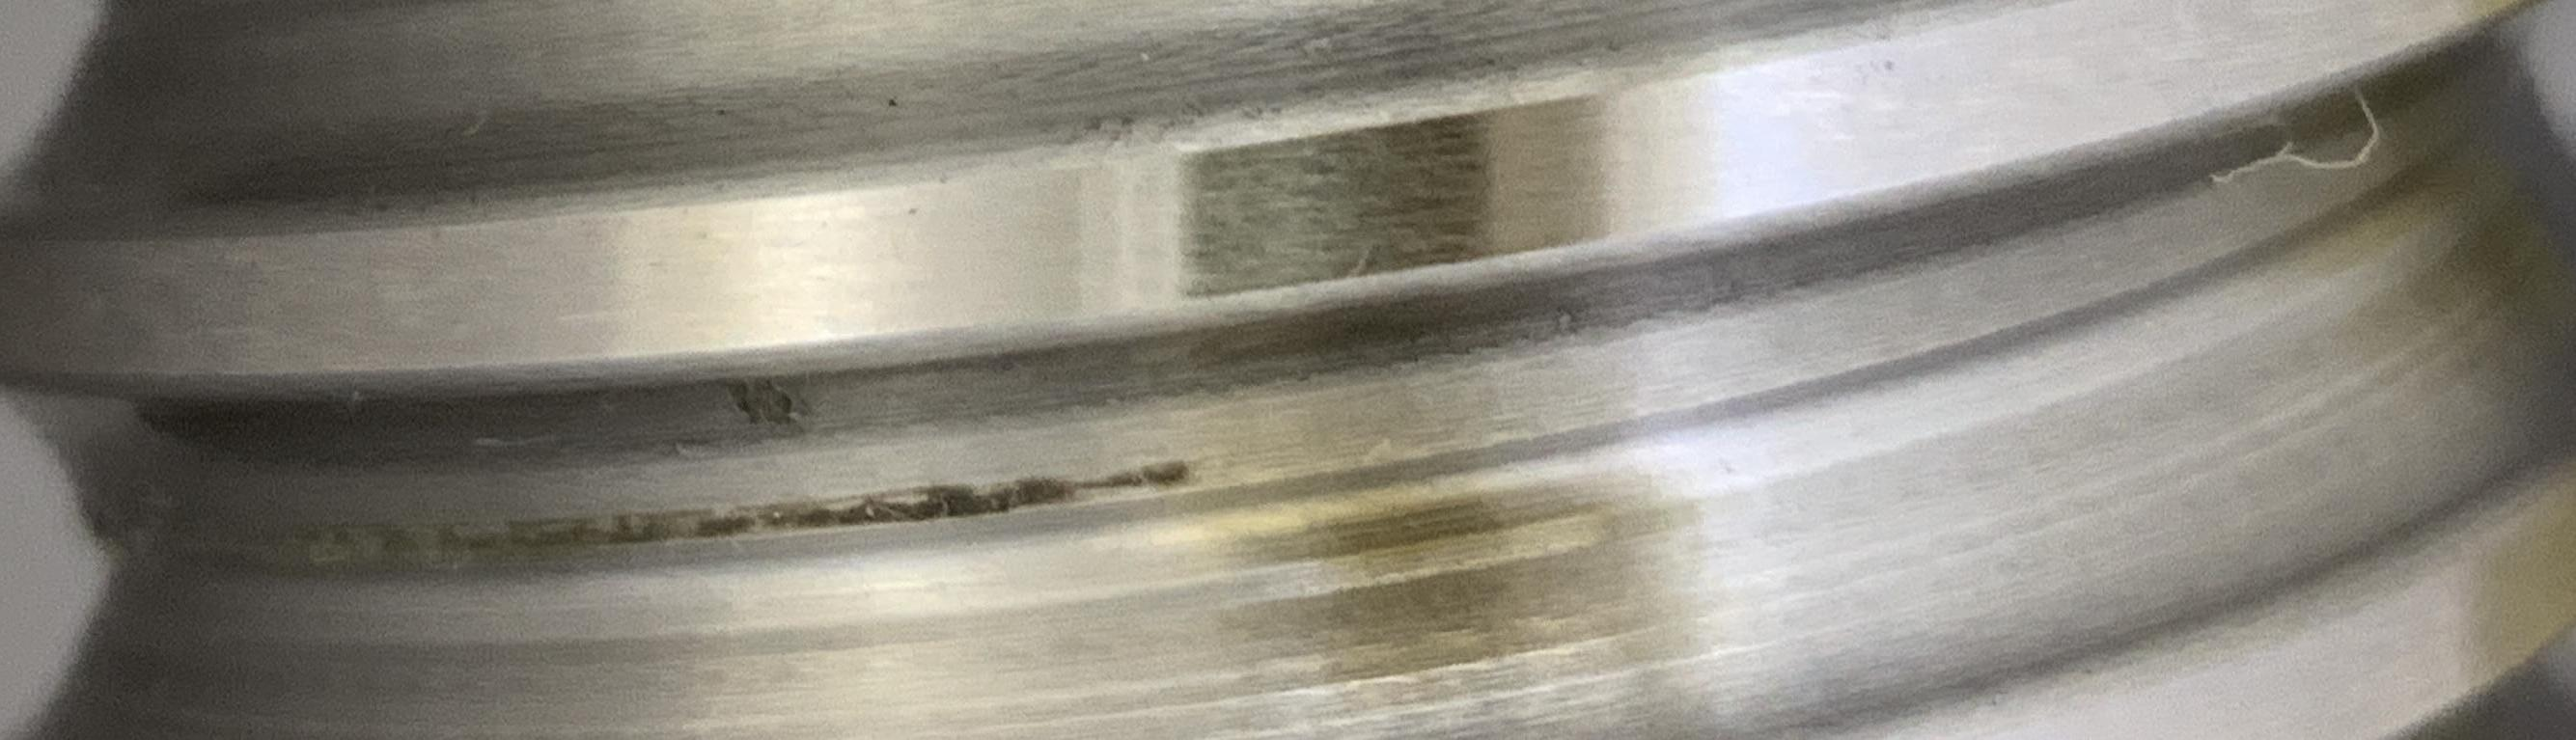pitting: (726, 377, 797, 436)
